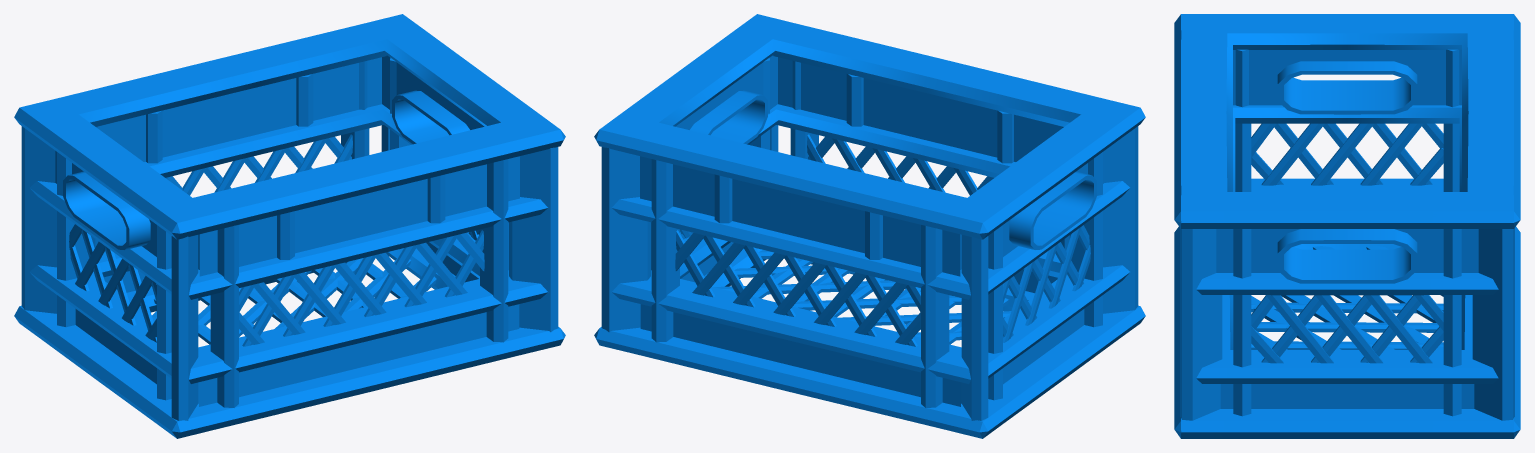
The model's file is Crate_03.fbx.
The picture shows the model from 3 angles, left to right: view 1: azimuth 30°, elevation 25°; view 2: azimuth 150°, elevation 25°; view 3: azimuth 270°, elevation 25°; orthographic projection. The views are drawn at different scales.
Visible parts, largest first — view 1: Crate_03; view 2: Crate_03; view 3: Crate_03.
Boxes of the visible parts, box(x1,y1,x2,y2) form: Crate_03: box(14, 14, 565, 438); Crate_03: box(594, 14, 1145, 438); Crate_03: box(1174, 14, 1520, 438).
Size of the model in its own units: 0.5518 by 0.2888 by 0.398.
